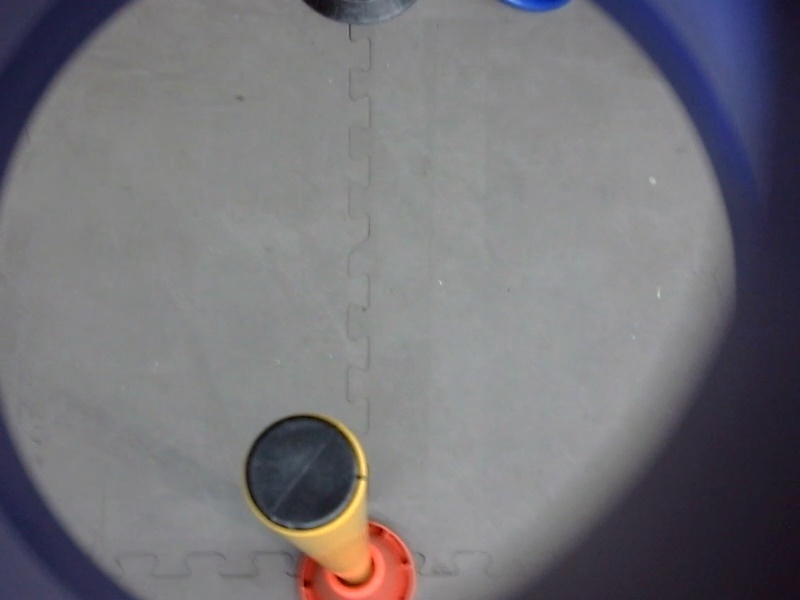tip: (232, 402, 373, 543)
